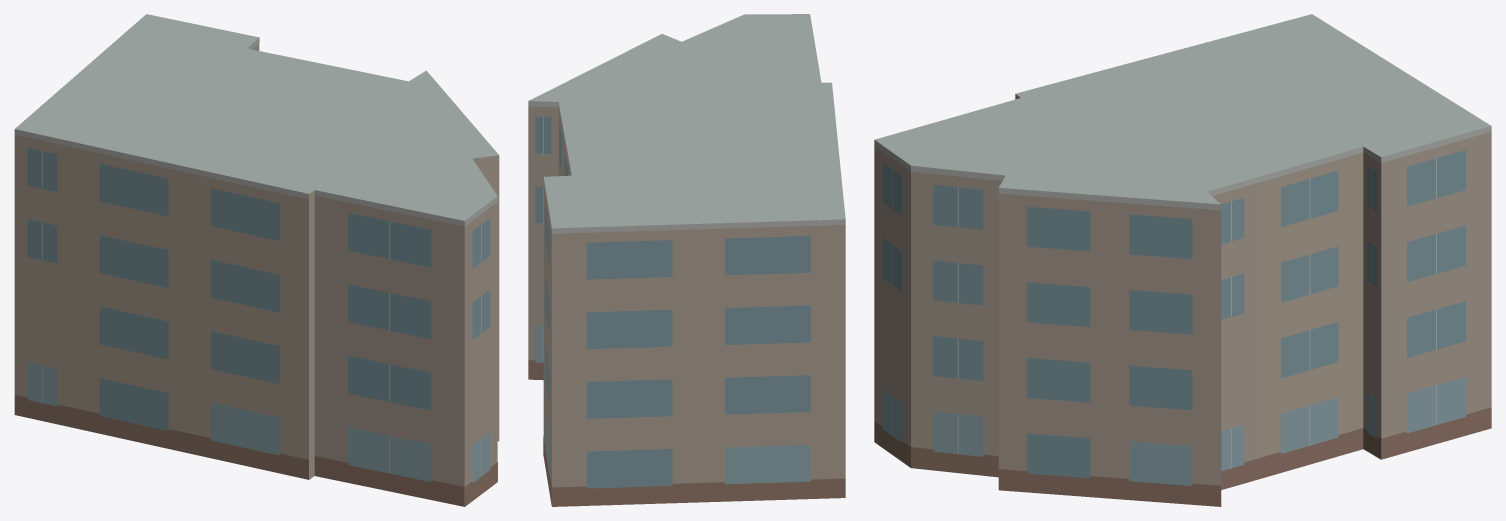
Rendered from survey-upis-32893936.glb.
3 renders of one model, left to right at view 1: azimuth 30°, elevation 25°; view 2: azimuth 150°, elevation 25°; view 3: azimuth 270°, elevation 25°, orthographic. The views are drawn at different scales.
Visible parts, largest first — view 1: survey-upis-32893936.tmp; view 2: survey-upis-32893936.tmp; view 3: survey-upis-32893936.tmp.
Boxes of the visible parts, bbox=[...] form: survey-upis-32893936.tmp: bbox=[14, 14, 499, 506]; survey-upis-32893936.tmp: bbox=[528, 14, 845, 506]; survey-upis-32893936.tmp: bbox=[874, 14, 1491, 506].
Size of the model in its own units: 17.03 by 12.6 by 23.31.
